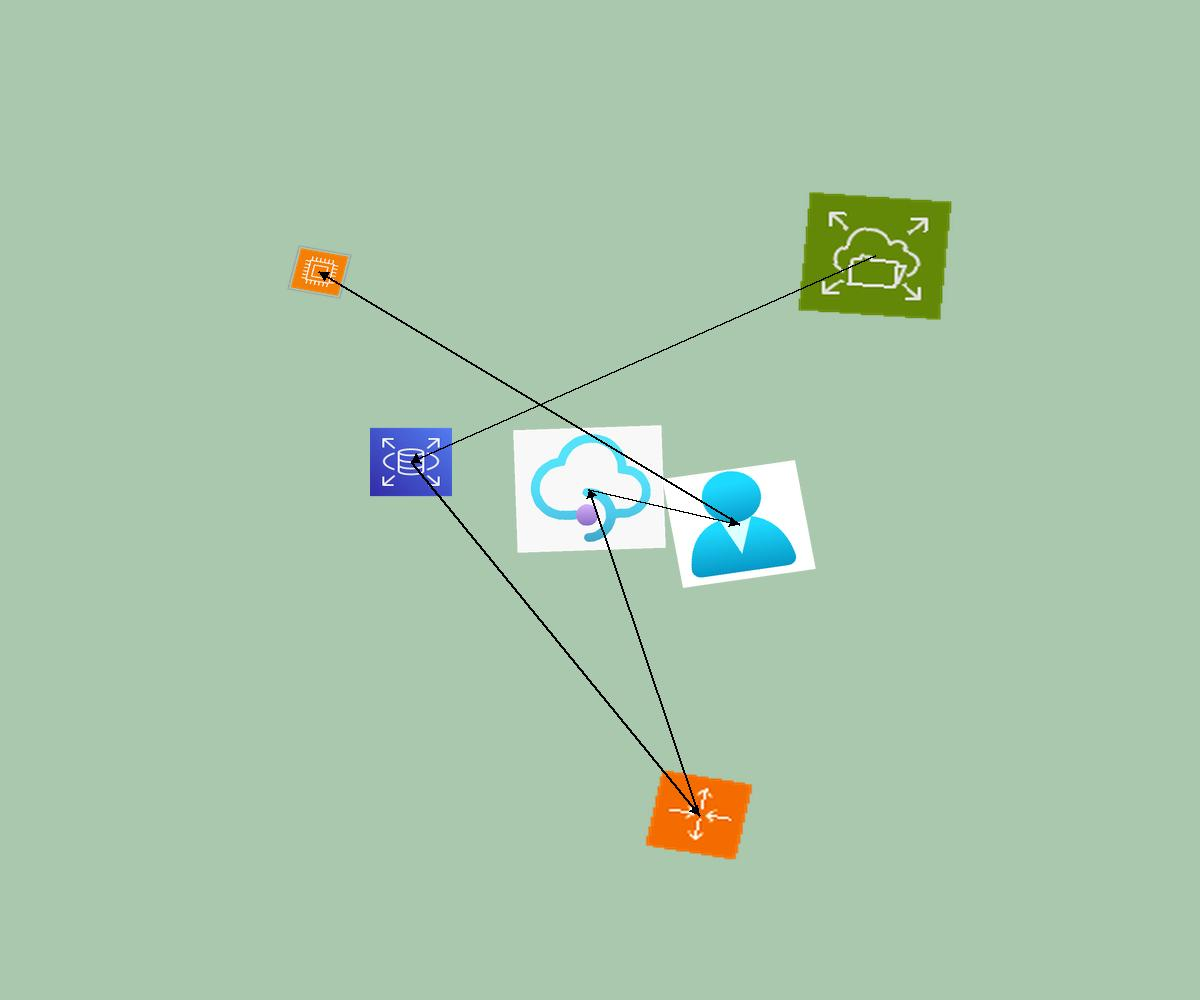AWS-Category_Compute: (287, 245, 352, 299)
AWS-EFS: (797, 191, 953, 321)
AWS-RDS: (369, 427, 453, 497)
AWS-Scaling-group: (644, 769, 754, 861)
Azure_api_gateway: (513, 425, 666, 553)
Azure_users: (662, 460, 816, 588)
